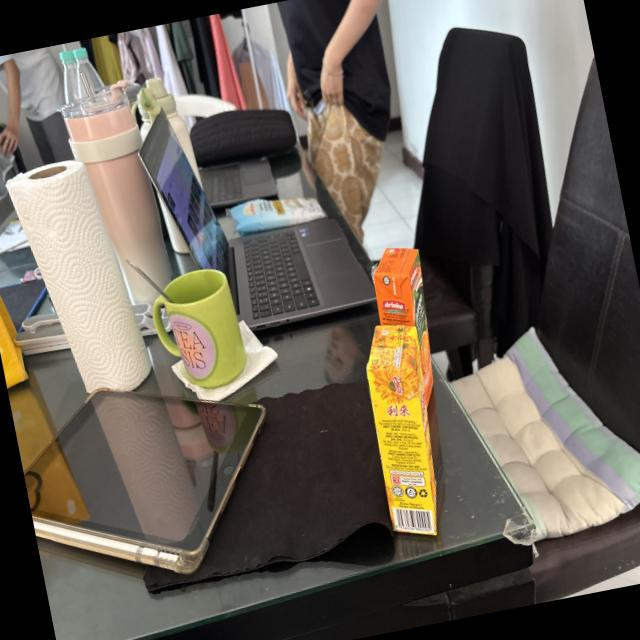drink_carton: (346, 311, 464, 554), (360, 236, 454, 420)
